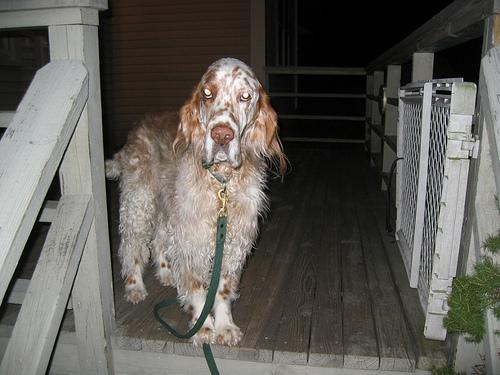dog-english_setter: (171, 57, 275, 165)
